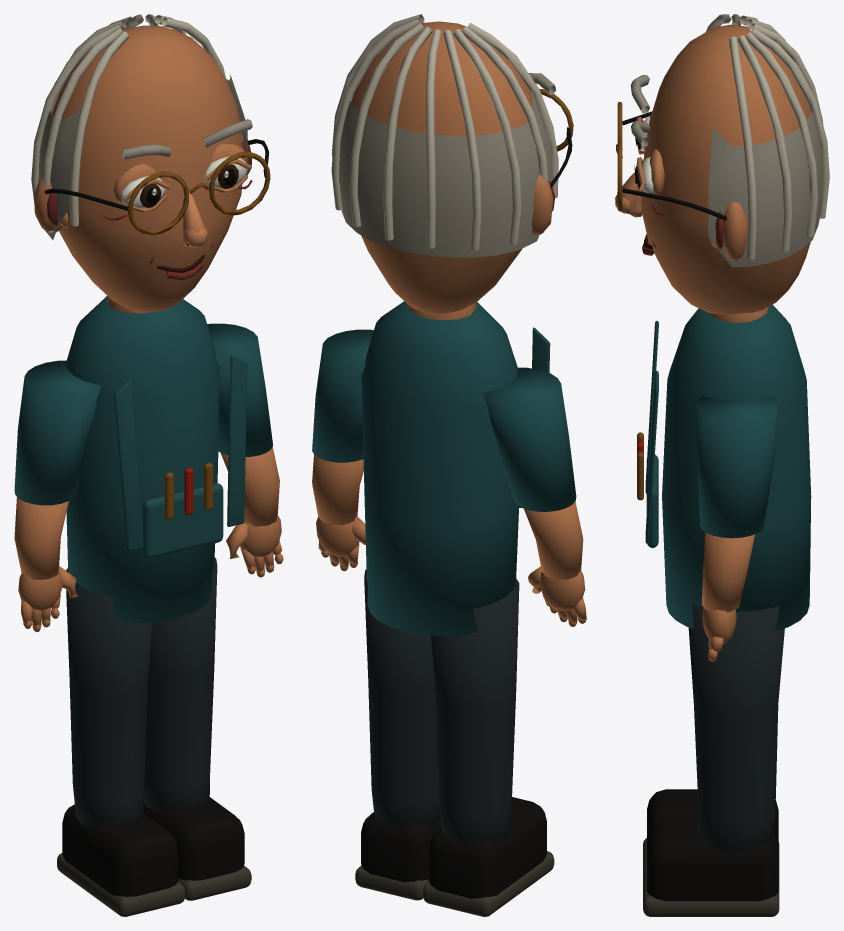
Rendered from technician-06.glb.
3 renders of one model, left to right at view 1: azimuth 30°, elevation 25°; view 2: azimuth 150°, elevation 25°; view 3: azimuth 270°, elevation 25°, orthographic. The views are drawn at different scales.
Parts seen in each view (by area): view 1: Head, Body, LegL, LegR, ArmL, ArmR; view 2: Head, Body, LegL, LegR, ArmL, ArmR; view 3: Head, Body, LegR, ArmR, LegL.
Boxes of the visible parts, <box> form: Head: <box>31,14,270,313</box>; Body: <box>66,295,247,622</box>; LegL: <box>57,568,185,916</box>; LegR: <box>143,557,251,900</box>; ArmL: <box>14,360,101,631</box>; ArmR: <box>207,323,283,577</box>; Head: <box>331,14,573,320</box>; Body: <box>361,301,550,636</box>; LegL: <box>423,579,554,916</box>; LegR: <box>355,569,441,900</box>; ArmL: <box>483,367,586,626</box>; ArmR: <box>312,329,373,571</box>; Head: <box>615,14,829,322</box>; Body: <box>637,304,811,631</box>; LegR: <box>643,604,784,916</box>; ArmR: <box>696,396,777,661</box>; LegL: <box>643,789,779,875</box>.
Size of the model in its own units: 0.4882 by 1.52 by 0.3434.
